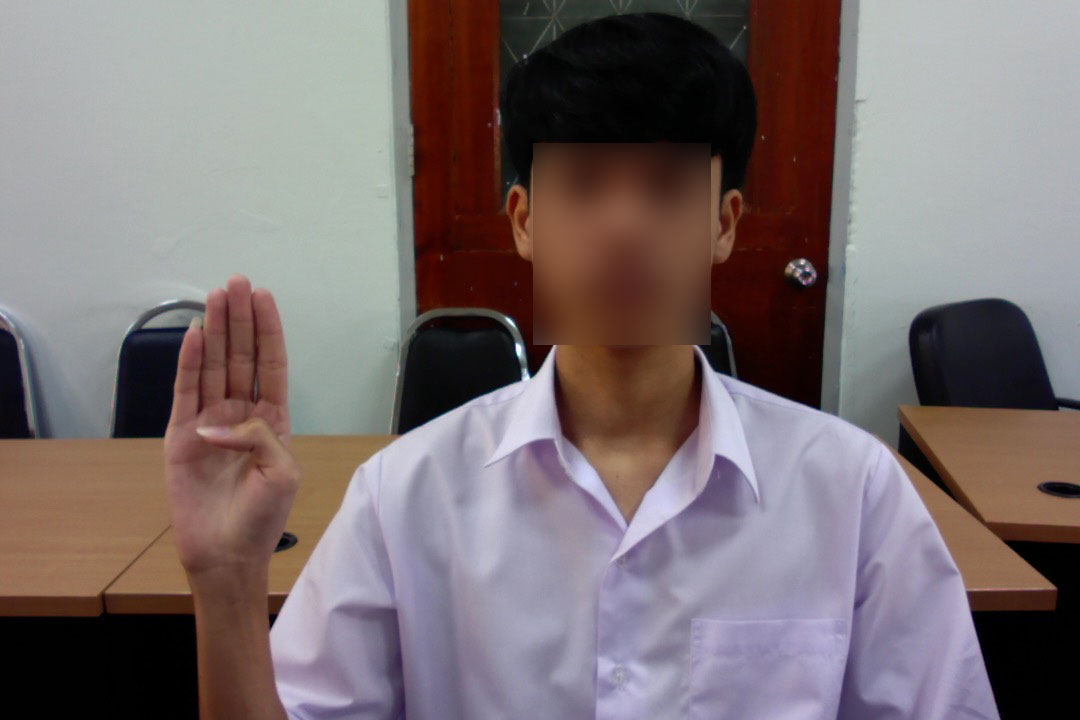bor: (157, 263, 302, 591)
